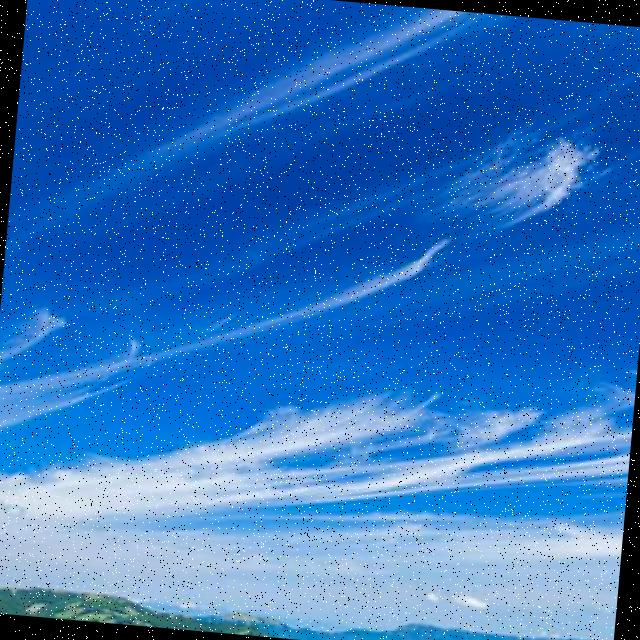Ci: (1, 30, 640, 549)
